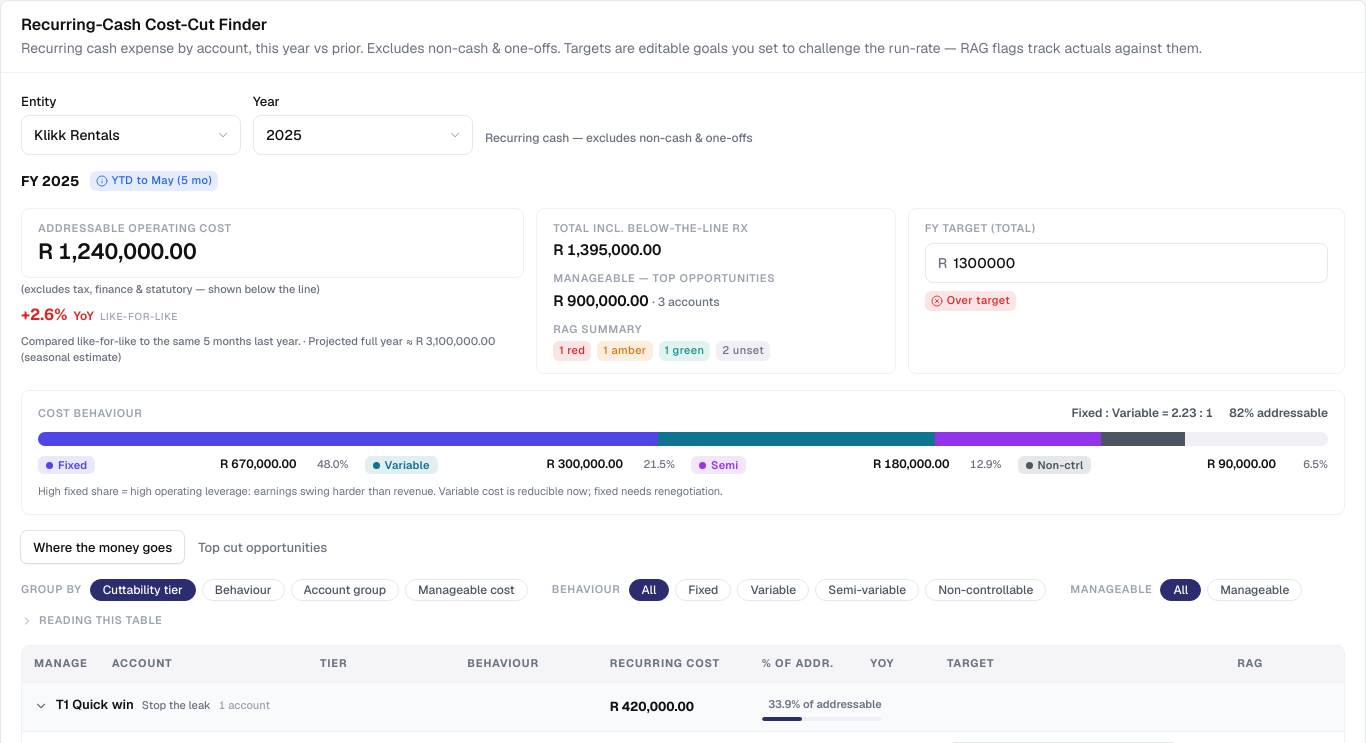
Area 3 — grouped table › collapse toggle flips aria-expanded and hides (v-show) the leaf rows of that group
Click the button with class "cc-group__toggle": (152,706) 30,694 -> 274,717
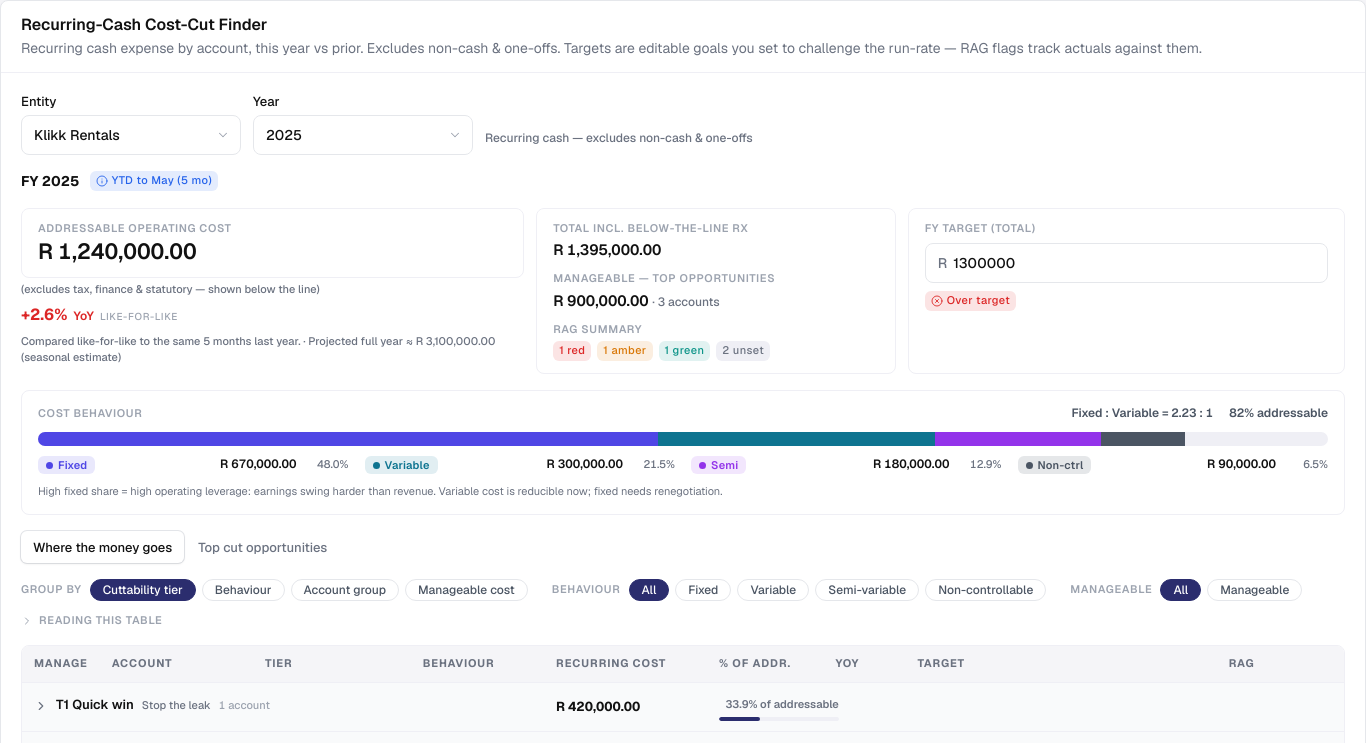
Check: the button with class "cc-group__toggle" is collapsed, box 30,694 -> 274,717
